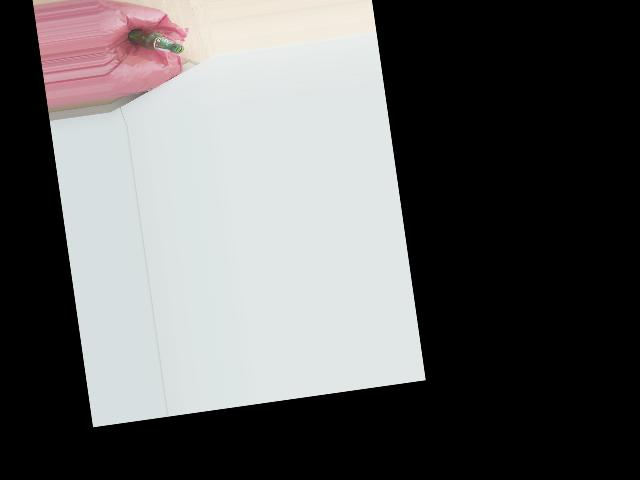beer: (127, 22, 184, 59)
